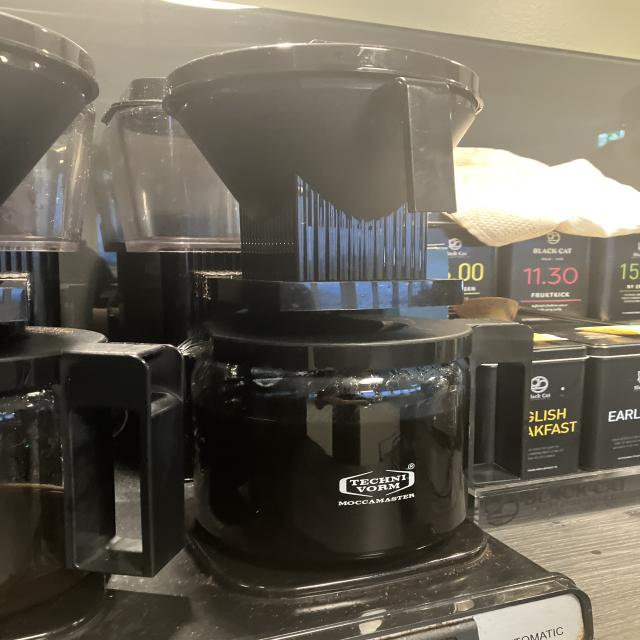coffee: (157, 306, 489, 574), (0, 308, 130, 618)
